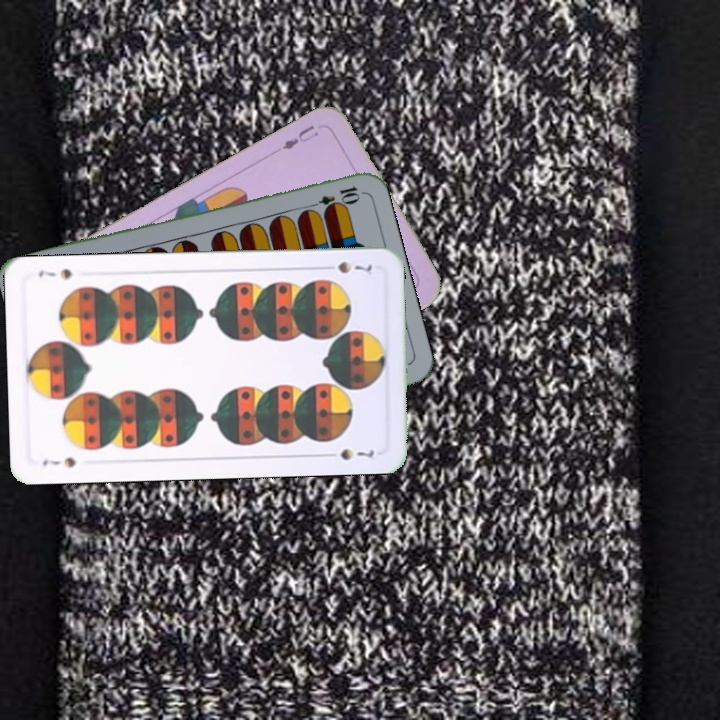E10: (304, 182, 362, 213)
EU: (278, 120, 322, 152)
S7: (319, 257, 375, 276), (39, 453, 79, 470)
